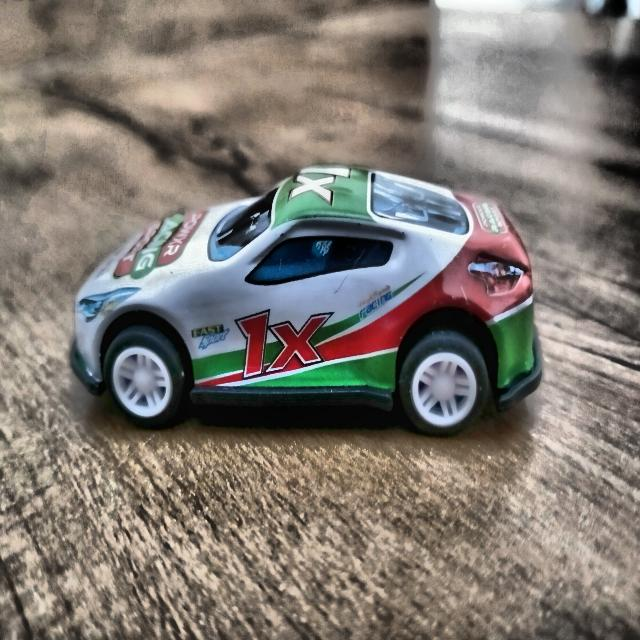Car: (65, 154, 546, 454)
